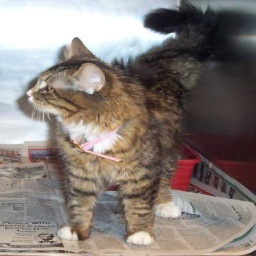cat: (22, 42, 180, 246)
